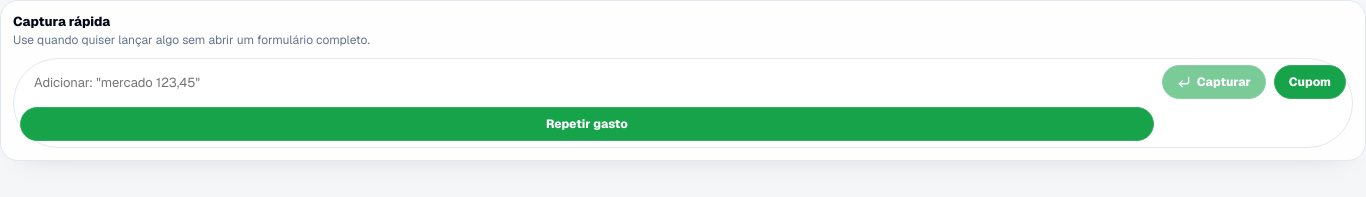
Test: QuickCaptureBar › fills quick capture from the last variable expense
Step 1. Click the button "Repetir gasto" → (587, 124), box [20,107,1154,141]
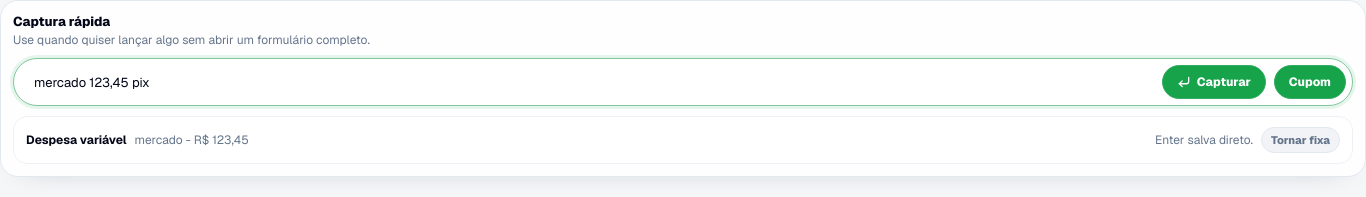
expect the field with placeholder "Adicionar: \"mercado 123,45\"" holds "mercado 123,45 pix": met, box [20,65,1154,99]
